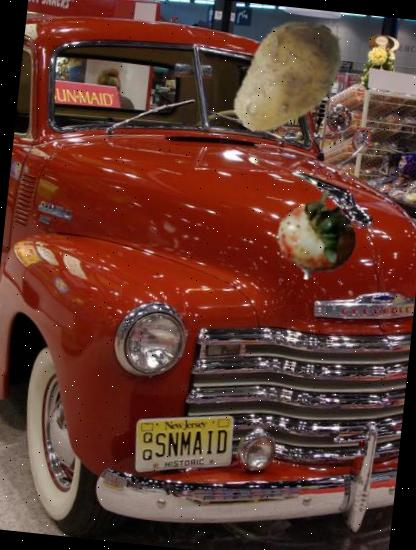Potato: (218, 8, 360, 150)
Strawberry: (267, 185, 369, 287)
